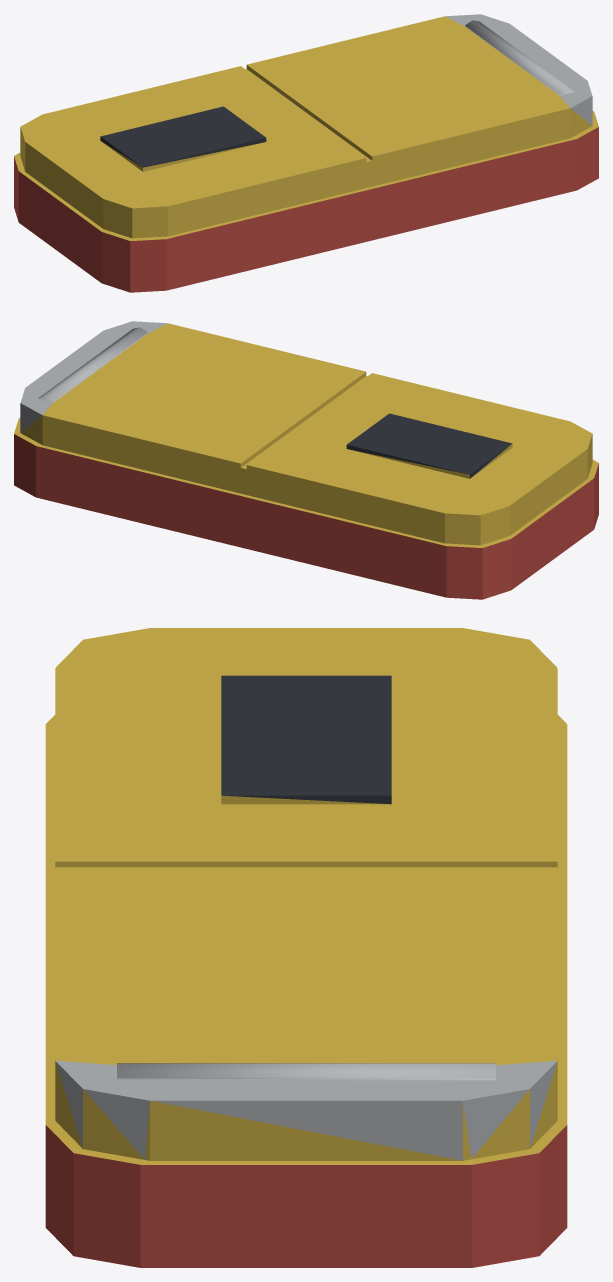
The model's file is pill_box.glb.
The picture shows the model from 3 angles, top to bottom: view 1: azimuth 30°, elevation 25°; view 2: azimuth 150°, elevation 25°; view 3: azimuth 270°, elevation 25°; orthographic projection. The views are drawn at different scales.
Visible parts, largest first — view 1: pill_box; view 2: pill_box; view 3: pill_box.
Part boxes in pixels (<box>): pill_box: <box>14,14,598,292</box>; pill_box: <box>14,321,598,599</box>; pill_box: <box>45,628,567,1267</box>.
Bounding box in the file's own units: 0.12 × 0.02 × 0.055.
